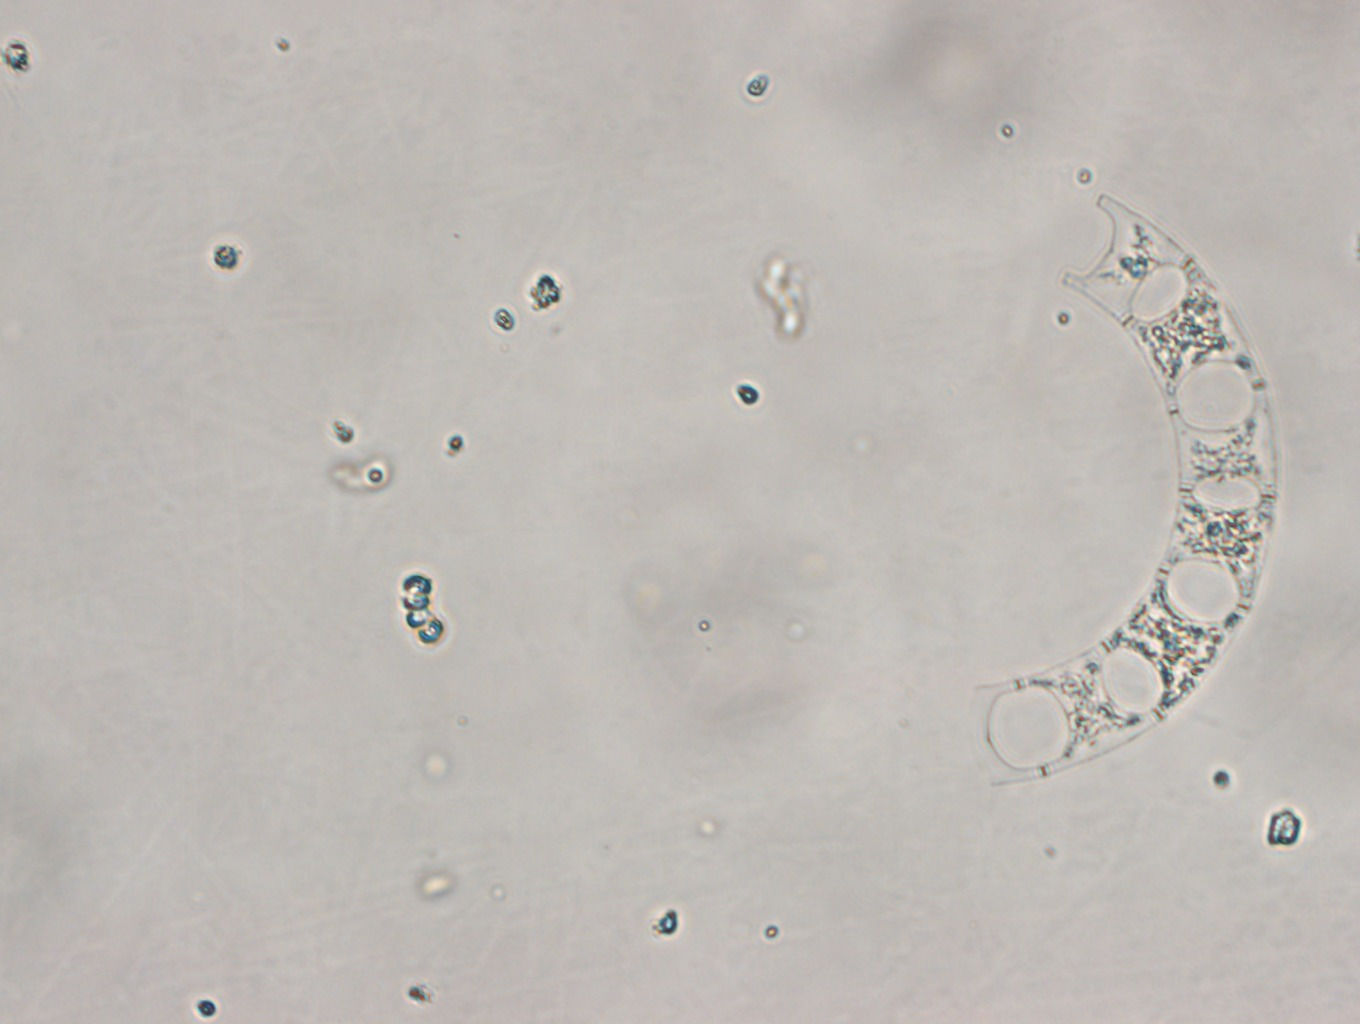eucampia: (964, 185, 1286, 795)
